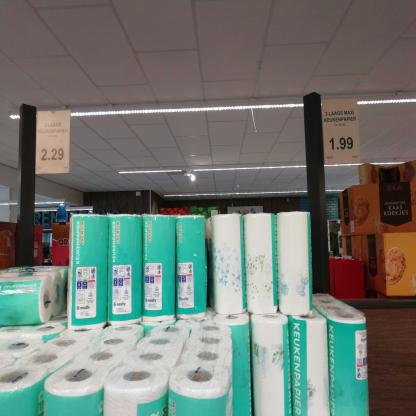prtg: (322, 98, 361, 166), (37, 111, 72, 175)
